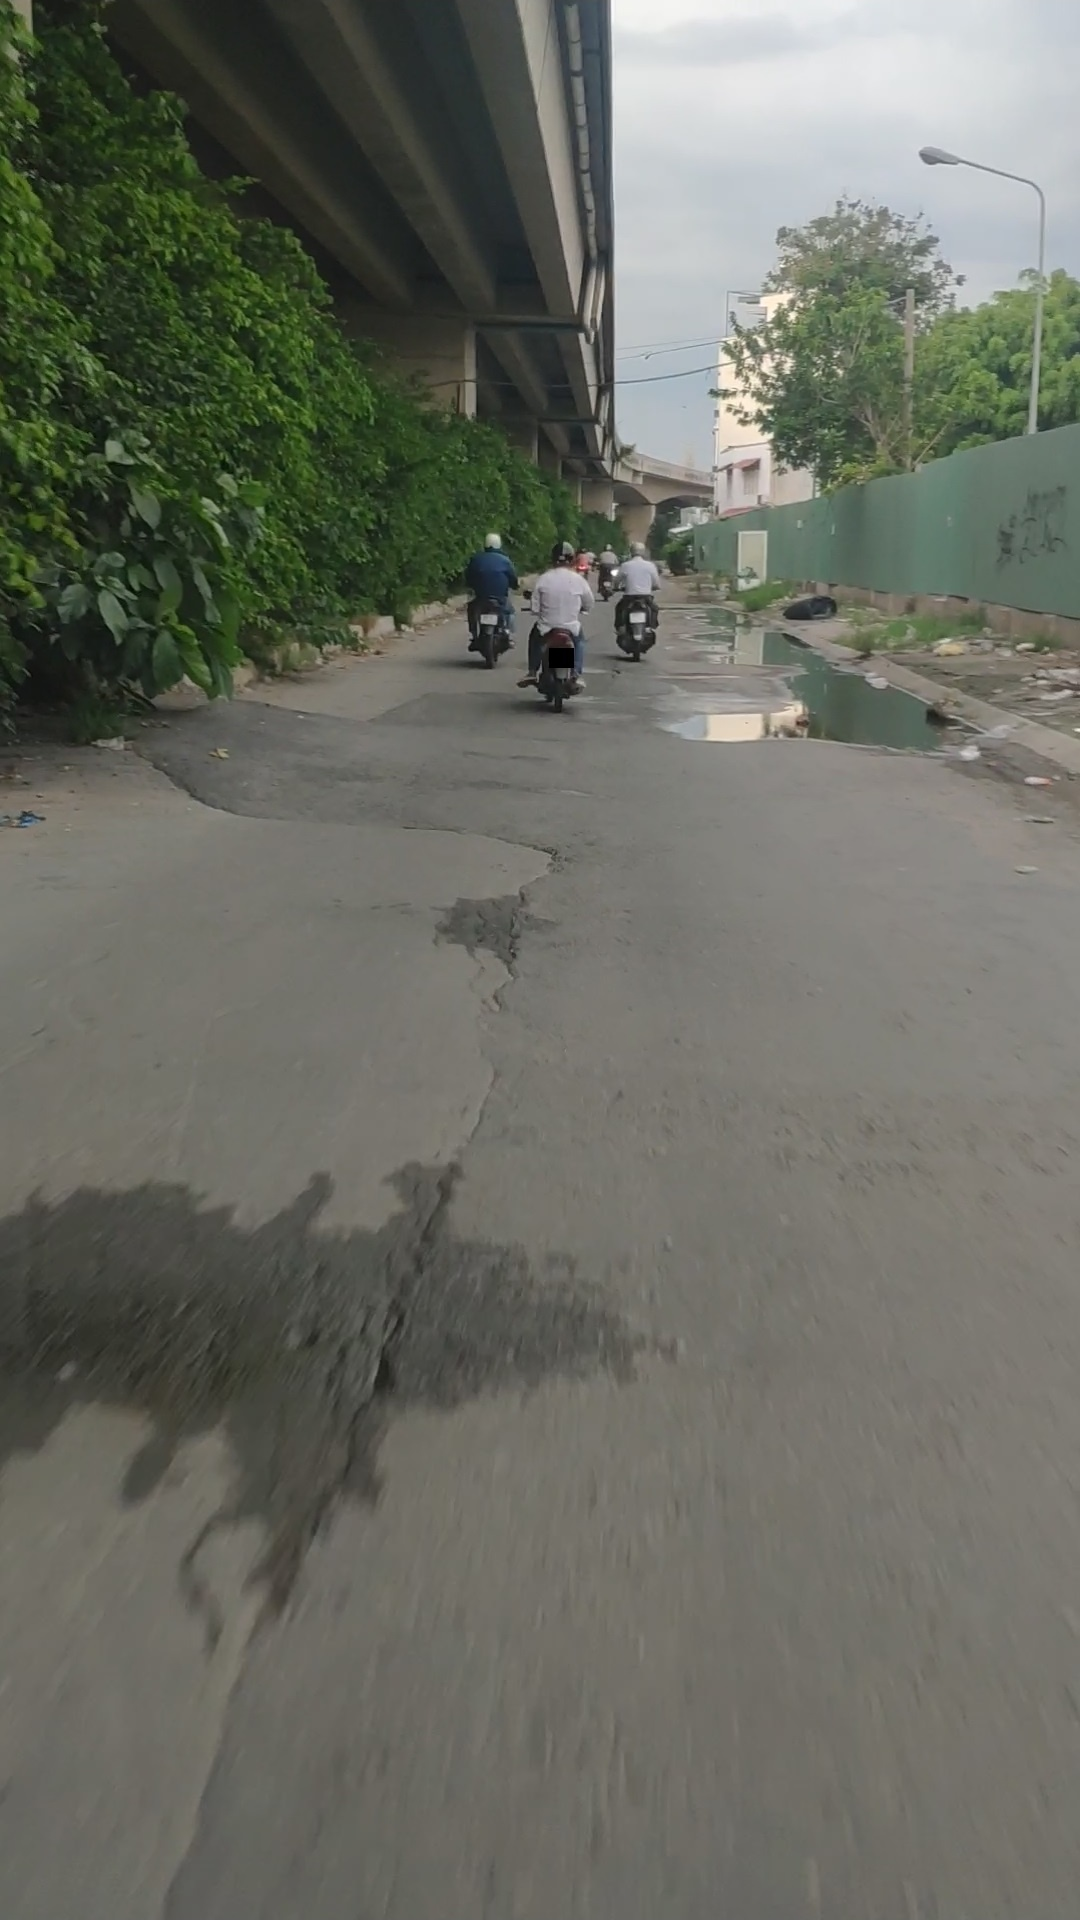hole: (448, 889, 545, 992), (607, 667, 624, 676)
